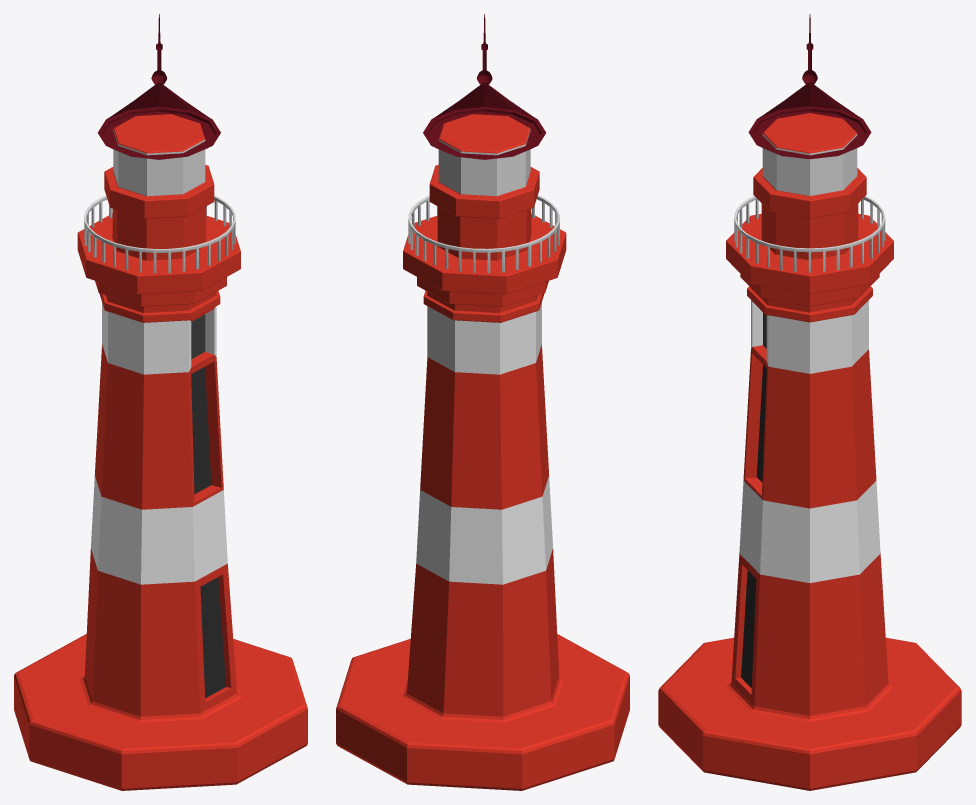
Rendered from LightTowerModel.fbx.
3 renders of one model, left to right at view 1: azimuth 30°, elevation 25°; view 2: azimuth 150°, elevation 25°; view 3: azimuth 270°, elevation 25°, orthographic.
Parts seen in each view (by area): view 1: Cylinder, Circle, light part, Cylinder.001, Cylinder.004, Cylinder.003, Cylinder.005; view 2: Cylinder, Circle, light part, Cylinder.001; view 3: Cylinder, light part, Circle, Cylinder.001, Cylinder.004, Cylinder.003.
Boxes of the visible parts, x1,y1,x2,y2 form: Cylinder: (14,114,307,790); Circle: (97,14,220,159); light part: (113,129,205,196); Cylinder.001: (84,195,235,273); Cylinder.004: (200,577,226,698); Cylinder.003: (191,366,211,494); Cylinder.005: (191,314,205,359); Cylinder: (336,114,629,790); Circle: (423,14,546,159); light part: (438,129,530,196); Cylinder.001: (408,195,559,273); Cylinder: (658,113,961,790); light part: (762,134,857,195); Circle: (748,14,871,159); Cylinder.001: (734,196,885,272); Cylinder.004: (741,570,756,687); Cylinder.003: (756,365,766,482).
Bounding box in the file's own units: 152 × 394 × 152.
